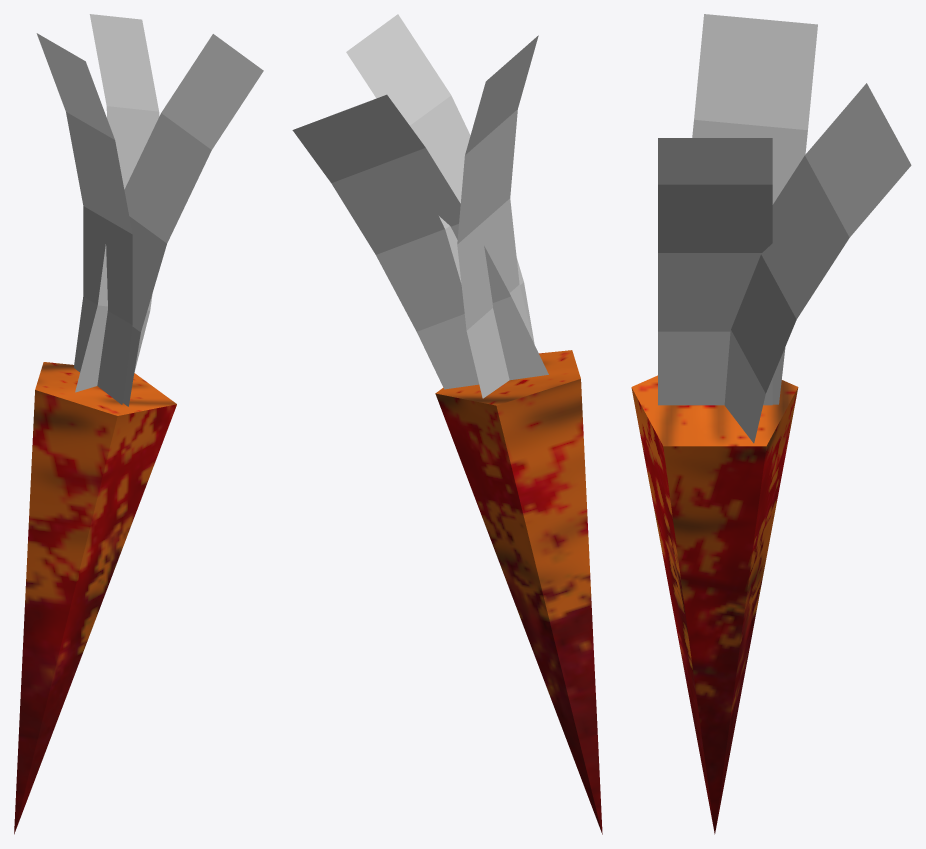
The model's file is carrot.fbx.
3 renders of one model, left to right at view 1: azimuth 30°, elevation 25°; view 2: azimuth 150°, elevation 25°; view 3: azimuth 270°, elevation 25°, orthographic. The views are drawn at different scales.
Visible parts, largest first — view 1: pCone1, pPlane1, pPlane3, pPlane2; view 2: pCone1, pPlane2, pPlane3, pPlane1; view 3: pCone1, pPlane1, pPlane2, pPlane3.
Boxes of the visible parts, bbox=[...] form: pCone1: bbox=[14, 362, 176, 834]; pPlane1: bbox=[122, 34, 263, 406]; pPlane3: bbox=[36, 33, 132, 404]; pPlane2: bbox=[75, 14, 159, 392]; pCone1: bbox=[435, 350, 602, 834]; pPlane2: bbox=[292, 94, 548, 389]; pPlane3: bbox=[457, 35, 538, 398]; pPlane1: bbox=[346, 14, 534, 344]; pCone1: bbox=[631, 375, 798, 834]; pPlane1: bbox=[658, 138, 772, 405]; pPlane2: bbox=[724, 83, 911, 443]; pPlane3: bbox=[692, 14, 817, 404].
Size of the model in its own units: 2.43 by 7.85 by 2.32.
